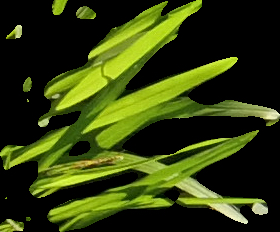grass: (1, 1, 279, 230)
